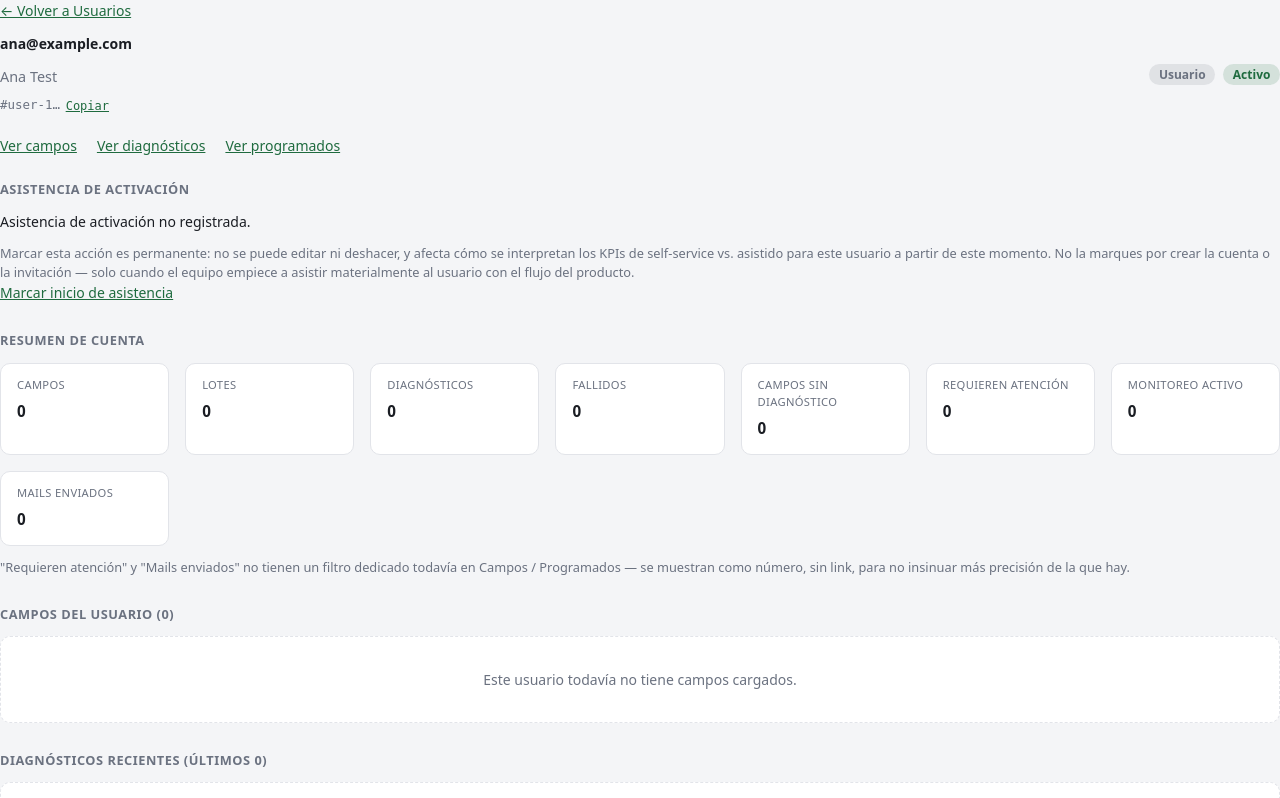
Test case: UserDetailComponent (Admin PR 7) › Asistencia de activación (MEASUREMENT GAP P1-06) › error: conserva el estado previo (sigue "no registrada" y el botón sigue disponible) y muestra un error acotado
Click the button "Marcar inicio de asistencia": (87, 293) [0, 282, 173, 304]
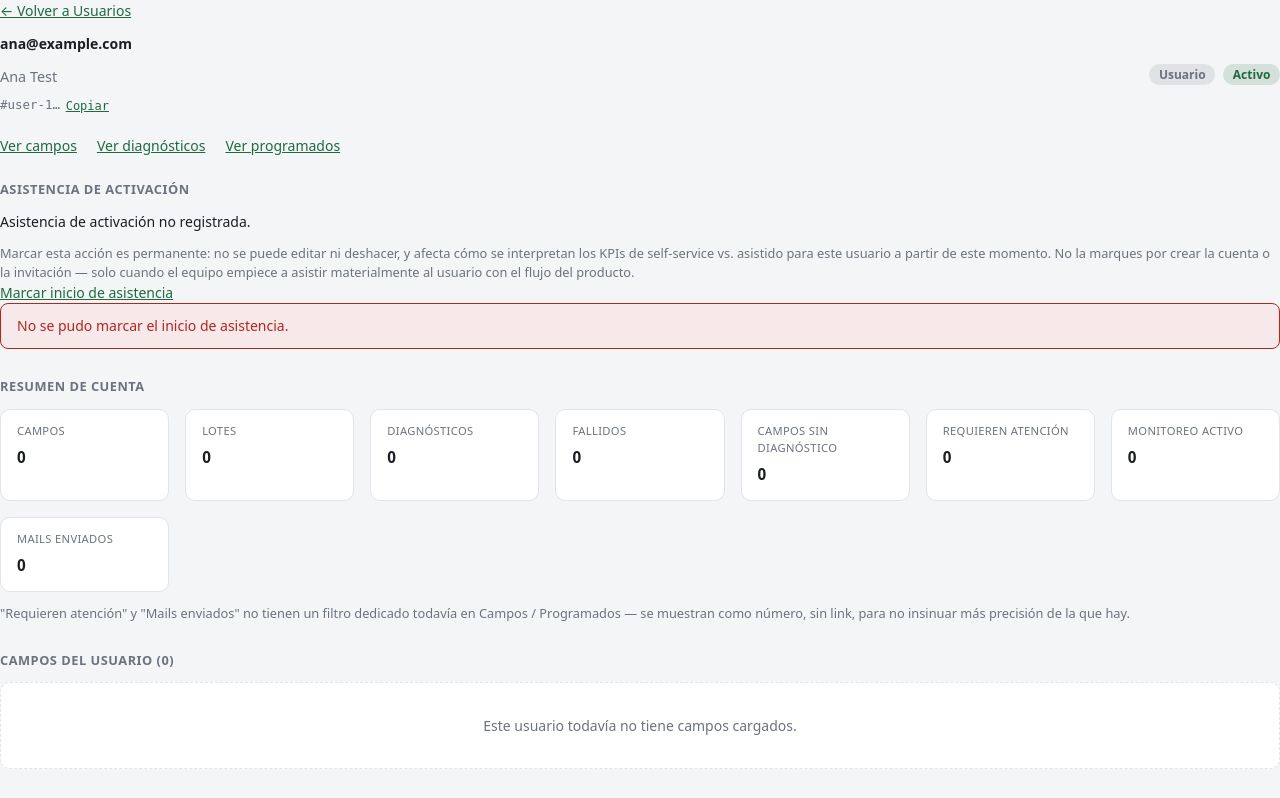
Check: the text "Asistencia de activación no registrada." is shown, box [0, 212, 251, 231]
Check: the text with class "error-banner" reads "No se pudo marcar el inicio de asistencia.", box [17, 316, 288, 336]
